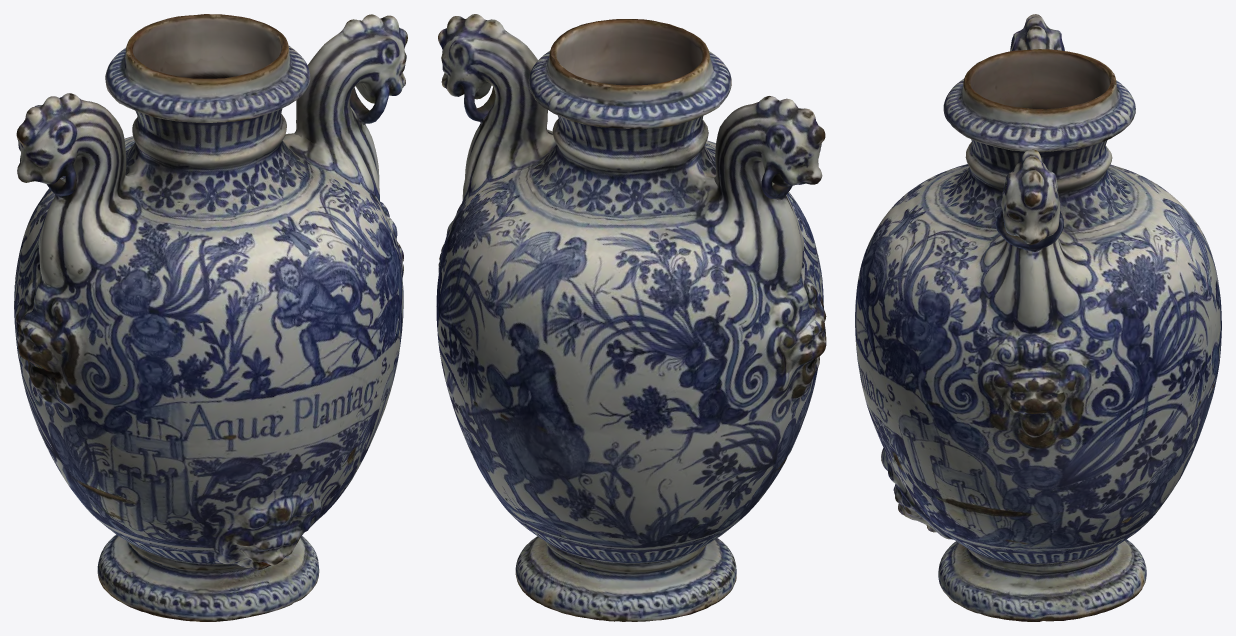
File: vase.glb
The picture shows the model from 3 angles, left to right: view 1: azimuth 30°, elevation 25°; view 2: azimuth 150°, elevation 25°; view 3: azimuth 270°, elevation 25°; orthographic projection. The views are drawn at different scales.
Parts seen in each view (by area): view 1: Object_3; view 2: Object_3; view 3: Object_3.
Part boxes in pixels (x1,y1,x2,y2): Object_3: (14, 14, 407, 621); Object_3: (436, 14, 826, 621); Object_3: (855, 14, 1221, 621).
Bounding box in the file's own units: 327 × 429 × 284.
1 material, 1 textured.
